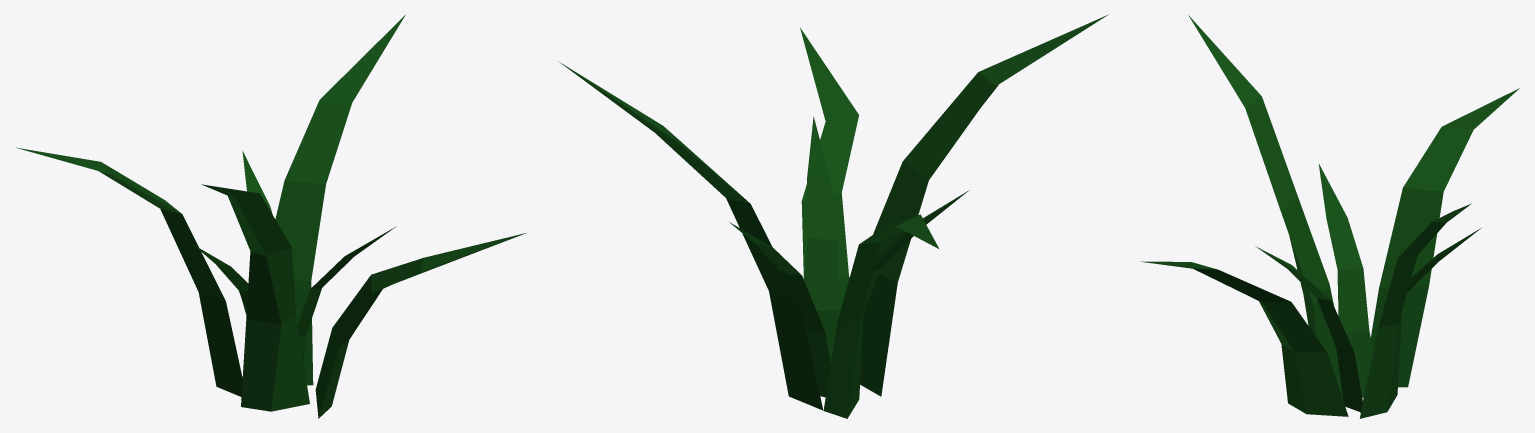
The model's file is folliage18.glb.
3 views of the same model, side by side, from view 1: azimuth 30°, elevation 25°; view 2: azimuth 150°, elevation 25°; view 3: azimuth 270°, elevation 25° (orthographic). The views are drawn at different scales.
Parts seen in each view (by area): view 1: Cube.008; view 2: Cube.008; view 3: Cube.008.
Part boxes in pixels (box(x1,y1,x2,y2)): Cube.008: box(16, 14, 526, 418); Cube.008: box(559, 14, 1108, 418); Cube.008: box(1141, 15, 1519, 418).
Bounding box in the file's own units: 0.4257 × 0.3479 × 0.3902.
